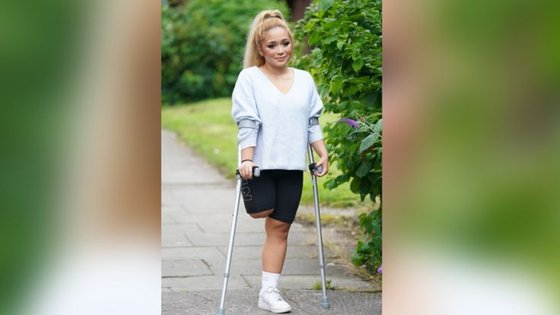crutches: (217, 9, 331, 315)
